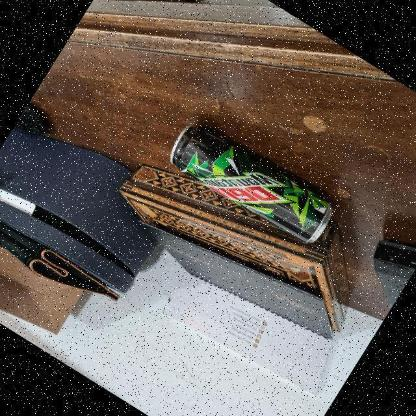Can: (171, 123, 333, 243)
